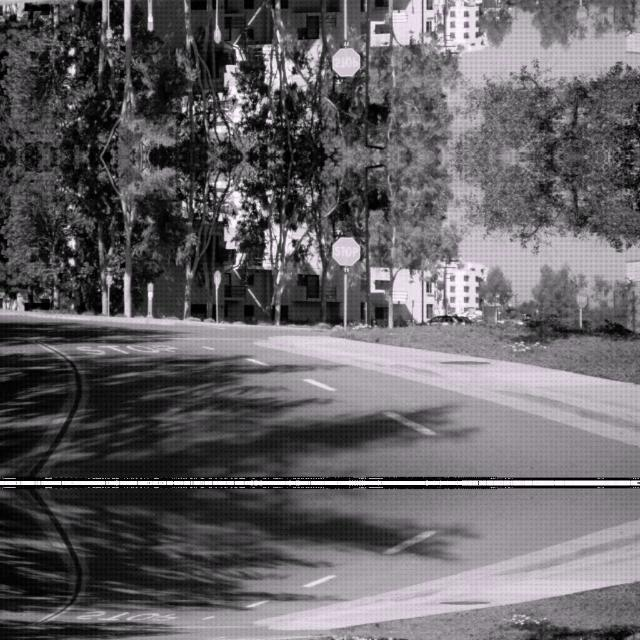stop: (332, 236, 360, 264), (332, 48, 360, 76), (576, 5, 586, 22), (576, 290, 586, 306)
